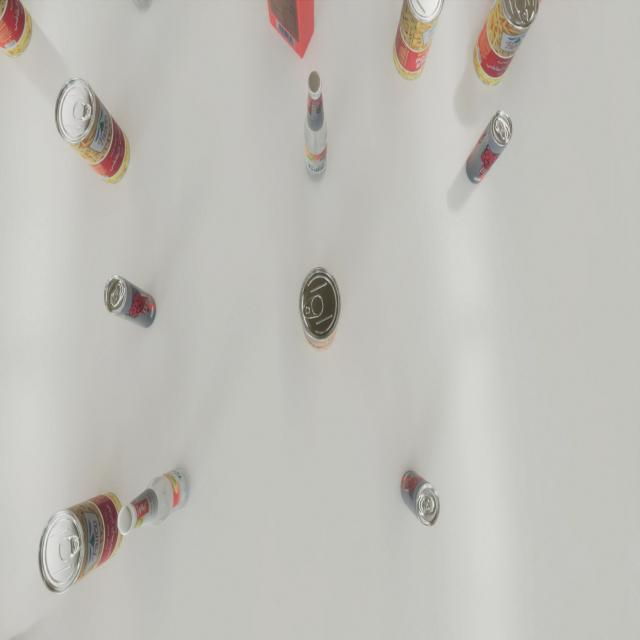Bottle: (117, 466, 191, 535), (303, 71, 328, 182)
Potato_sticks: (38, 492, 124, 594), (55, 77, 130, 184), (474, 0, 540, 86), (393, 0, 445, 80), (299, 267, 341, 351)
Rita_zero_sugar: (466, 110, 513, 184), (104, 275, 156, 328), (401, 471, 440, 527)
